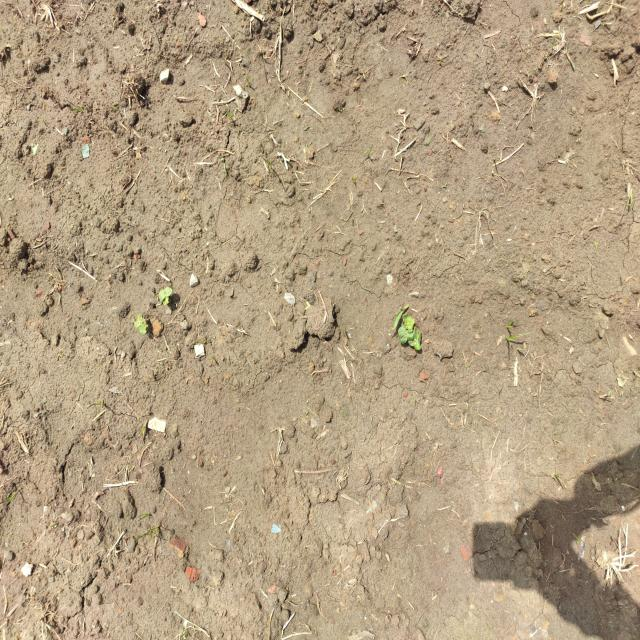seedling_s1: (397, 327, 407, 344), (159, 288, 172, 301), (414, 332, 422, 351), (138, 318, 147, 334), (407, 329, 414, 347), (134, 314, 142, 328), (402, 314, 409, 328), (407, 316, 414, 329), (413, 327, 419, 341)
